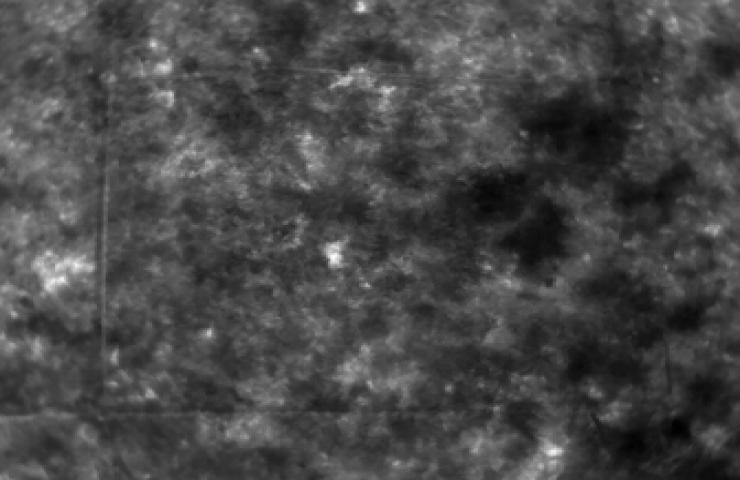landmines: (320, 238, 349, 265)
